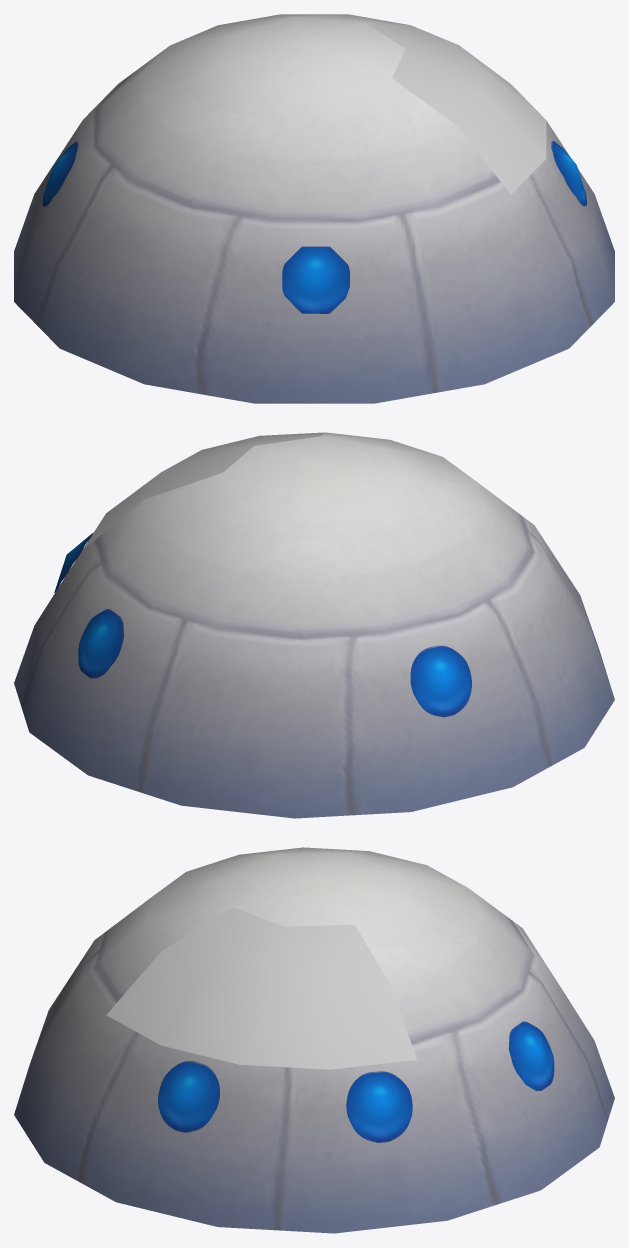
The model's file is nameikexing_jianzhu_01_001.FBX.
3 views of the same model, one above another, from view 1: azimuth 30°, elevation 25°; view 2: azimuth 150°, elevation 25°; view 3: azimuth 270°, elevation 25° (orthographic).
Visible parts, largest first — view 1: nameikexing_jianzhu_001, nameikexing_jianzhu_lie_02, nameikexing_jianzhu_zhu_01; view 2: nameikexing_jianzhu_001, nameikexing_jianzhu_zhu_01, nameikexing_jianzhu_lie_02; view 3: nameikexing_jianzhu_001, nameikexing_jianzhu_lie_02, nameikexing_jianzhu_zhu_01.
Part boxes in pixels (x1,y1,x2,y2): nameikexing_jianzhu_001: (14, 14, 614, 403); nameikexing_jianzhu_lie_02: (367, 23, 546, 194); nameikexing_jianzhu_zhu_01: (42, 141, 586, 313); nameikexing_jianzhu_001: (14, 432, 614, 818); nameikexing_jianzhu_zhu_01: (54, 533, 471, 717); nameikexing_jianzhu_lie_02: (83, 432, 325, 549); nameikexing_jianzhu_001: (14, 847, 614, 1233); nameikexing_jianzhu_lie_02: (106, 907, 416, 1069); nameikexing_jianzhu_zhu_01: (158, 1021, 554, 1142).
Size of the model in its own units: 603 by 255 by 603.
